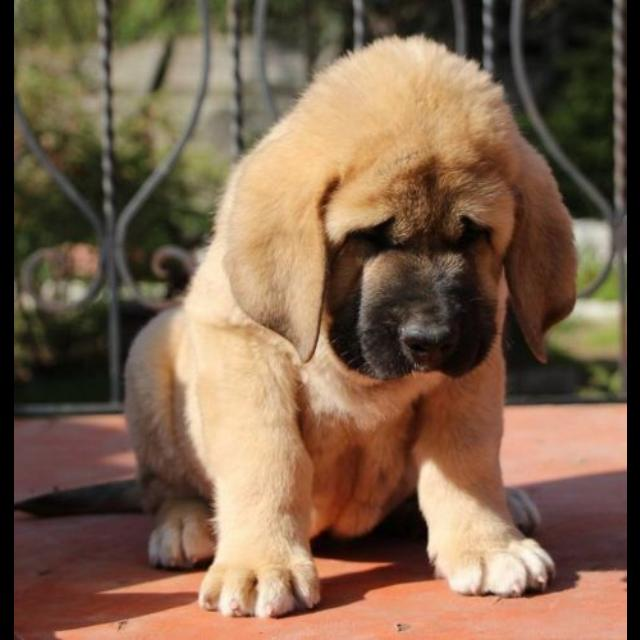mastiff: (14, 32, 578, 619)
